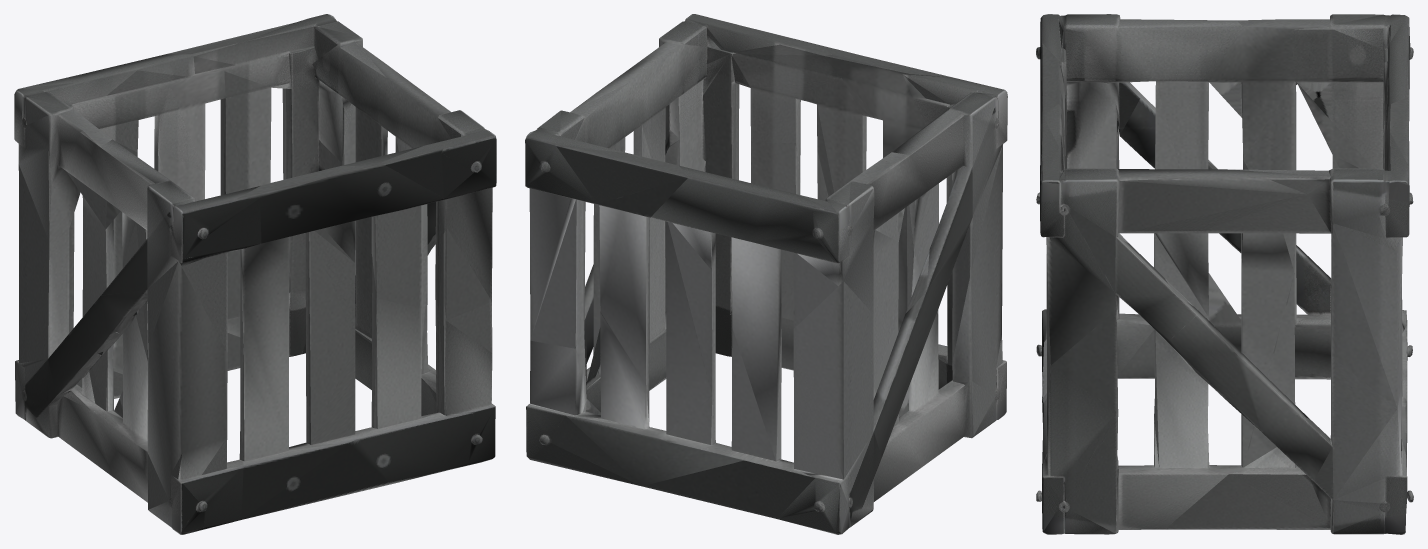
File: Caisse1.fbx
3 views of the same model, side by side, from view 1: azimuth 30°, elevation 25°; view 2: azimuth 150°, elevation 25°; view 3: azimuth 270°, elevation 25° (orthographic). The views are drawn at different scales.
Visible parts, largest first — view 1: output_unwrapped; view 2: output_unwrapped; view 3: output_unwrapped.
Boxes of the visible parts, box(x1,y1,x2,y2) form: output_unwrapped: box(14, 14, 496, 534); output_unwrapped: box(525, 14, 1007, 534); output_unwrapped: box(1036, 14, 1413, 534).
Bounding box in the file's own units: 190 × 188 × 181.
1 material, 1 textured.
